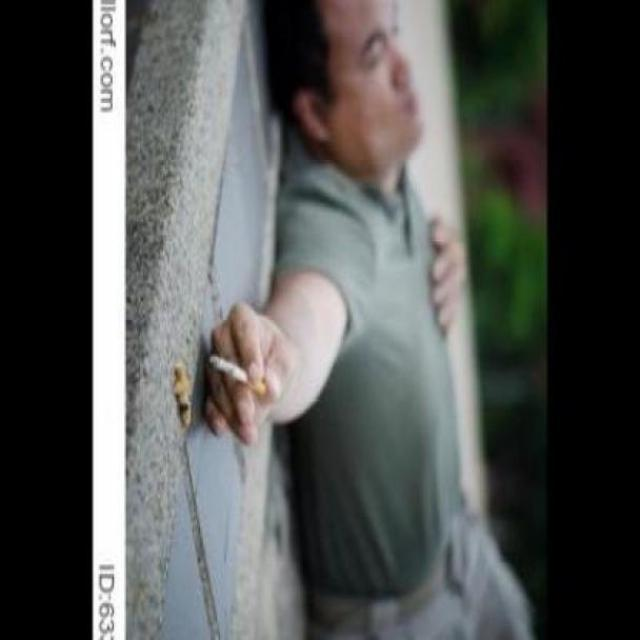rokok: (206, 352, 270, 400)
